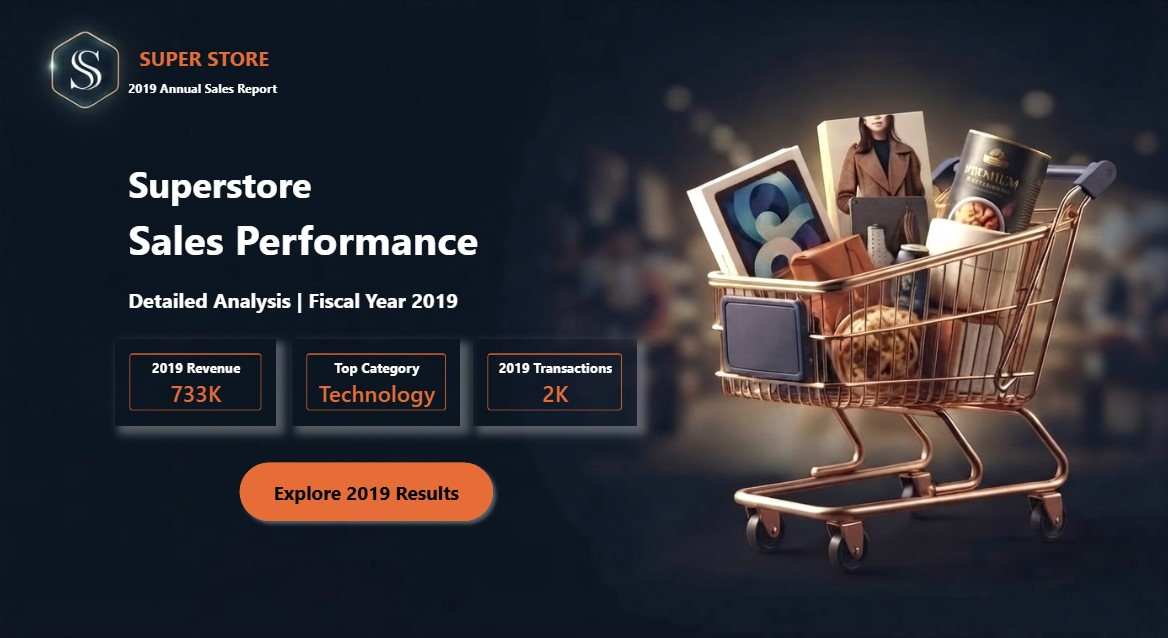

What the dashboard file says about the page in this screenshot:
{"tool":"powerbi","page":{"name":"Home","canvas":[1280,720],"ordinal":0},"visuals":[{"type":"shape","box":[622.5,245,192.5,76.2],"z":0},{"type":"shape","box":[640,298.8,245,76.2],"z":1000},{"type":"pageNavigator","box":[640,383.8,358.8,41.2],"z":2000}]}

Visuals, with their boxes in screenshot pixels (x1, y1, x2, y2), scaled from the page's 1280x720 canvas onto the 1168x638 screenshot:
shape: Rect(568, 217, 744, 285)
shape: Rect(584, 265, 808, 332)
pageNavigator: Rect(584, 340, 911, 377)
